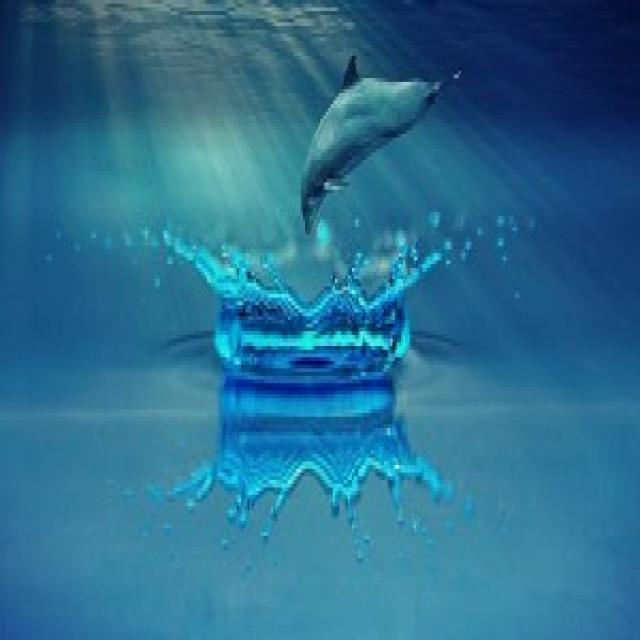Dolphin: (284, 56, 470, 236)
